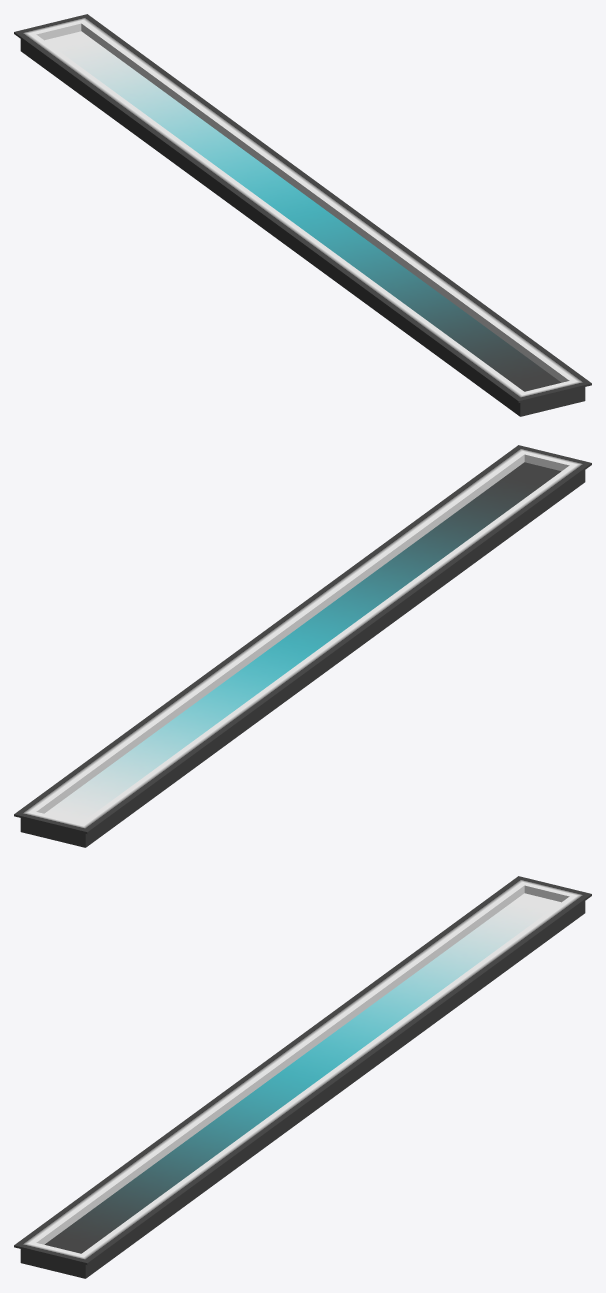
Rendered from GigXR UI - 3D Slider.fbx.
3 renders of one model, top to bottom at view 1: azimuth 30°, elevation 25°; view 2: azimuth 150°, elevation 25°; view 3: azimuth 330°, elevation 25°, orthographic.
Parts seen in each view (by area): view 1: Slider; view 2: Slider; view 3: Slider.
Boxes of the visible parts, x1,y1,x2,y2 form: Slider: [14, 14, 591, 416]; Slider: [14, 445, 591, 847]; Slider: [14, 876, 591, 1278].
Size of the model in its own units: 67.93 by 16.37 by 808.
Materials: 1 (1 with a texture image).
